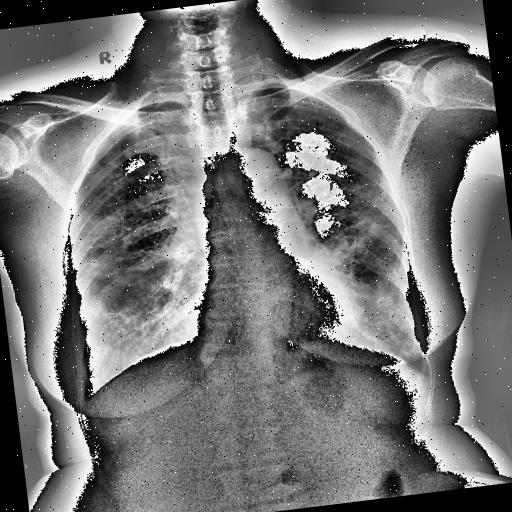0- Aortic enlargement: (221, 142, 289, 204)
13- Pulmonary fibrosis: (274, 168, 293, 180), (302, 168, 322, 178)
5- ILD: (58, 138, 217, 396), (280, 124, 418, 360), (68, 194, 212, 348), (318, 180, 412, 324)
6- Infiltration: (53, 170, 218, 394), (292, 184, 424, 379), (68, 194, 212, 348), (318, 180, 412, 324)
